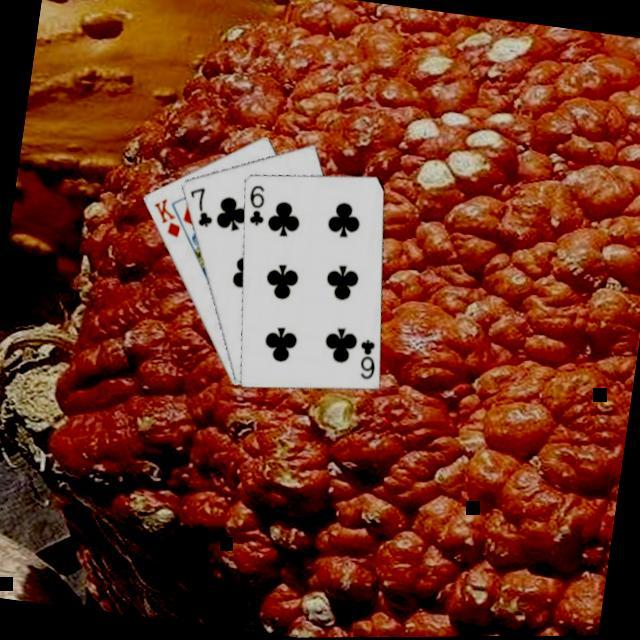6C: (241, 181, 271, 230), (351, 335, 381, 384)
7C: (182, 183, 219, 231)
KD: (145, 194, 187, 242)
